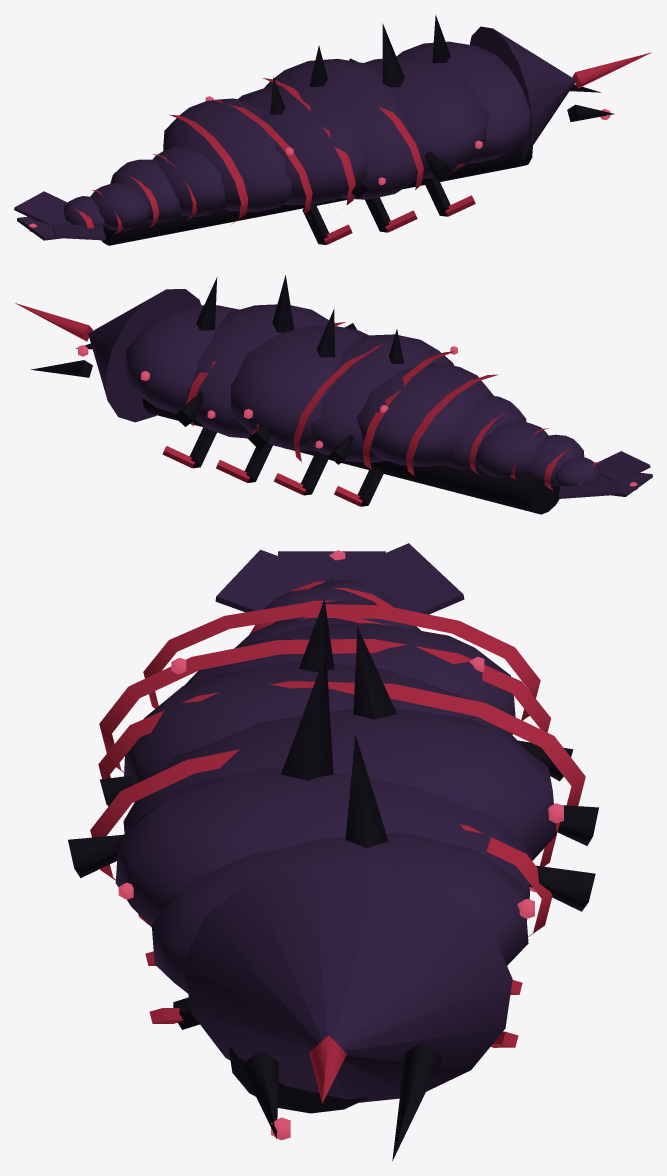
File: abyssal-submersible-directorate.glb
3 renders of one model, top to bottom at view 1: azimuth 30°, elevation 25°; view 2: azimuth 150°, elevation 25°; view 3: azimuth 270°, elevation 25°, orthographic. The views are drawn at different scales.
Parts seen in each view (by area): view 1: carapace_4, carapace_5, carapace_3, carapace_2, carapace_1, head, keel, tail_seg_1, tail_seg_2, tail_seg_3, telson_port, plate_rim_5 (+15 smaller); view 2: carapace_3, carapace_5, carapace_4, carapace_1, carapace_2, keel, head, tail_seg_2, tail_seg_1, tail_seg_3, tail_seg_4, telson_starboard (+16 smaller); view 3: head, carapace_2, carapace_3, carapace_1, carapace_4, carapace_5, plate_rim_5, plate_rim_4, plate_rim_3, telson_port, telson_starboard, spike_dorsal_2 (+15 smaller).
Part boxes in pixels (x1,y1,x2,y2): carapace_4: [238, 87, 369, 205]; carapace_5: [163, 98, 292, 212]; carapace_3: [264, 58, 424, 199]; carapace_2: [364, 57, 488, 180]; carapace_1: [396, 41, 530, 163]; head: [469, 26, 576, 159]; keel: [101, 142, 532, 245]; tail_seg_1: [152, 146, 226, 216]; tail_seg_2: [110, 159, 182, 223]; tail_seg_3: [90, 183, 149, 230]; telson_port: [14, 191, 67, 225]; plate_rim_5: [169, 114, 248, 224]; carapace_3: [231, 325, 368, 451]; carapace_5: [356, 363, 493, 466]; carapace_4: [307, 334, 454, 462]; carapace_1: [125, 305, 238, 413]; carapace_2: [187, 304, 328, 438]; keel: [142, 397, 559, 514]; head: [88, 289, 200, 422]; tail_seg_2: [475, 420, 548, 478]; tail_seg_1: [444, 395, 526, 469]; tail_seg_3: [527, 434, 584, 486]; tail_seg_4: [554, 457, 600, 486]; telson_starboard: [596, 451, 650, 481]; head: [184, 863, 512, 1102]; carapace_2: [115, 767, 532, 927]; carapace_3: [123, 708, 556, 860]; carapace_1: [151, 832, 528, 993]; carapace_4: [124, 661, 523, 784]; carapace_5: [184, 623, 515, 734]; plate_rim_5: [143, 603, 540, 720]; plate_rim_4: [99, 638, 550, 772]; plate_rim_3: [98, 681, 585, 817]; telson_port: [331, 543, 464, 614]; telson_starboard: [215, 549, 333, 612]; spike_dorsal_2: [281, 652, 333, 780].
Size of the model in its own units: 94.78 by 25.7 by 35.16.
